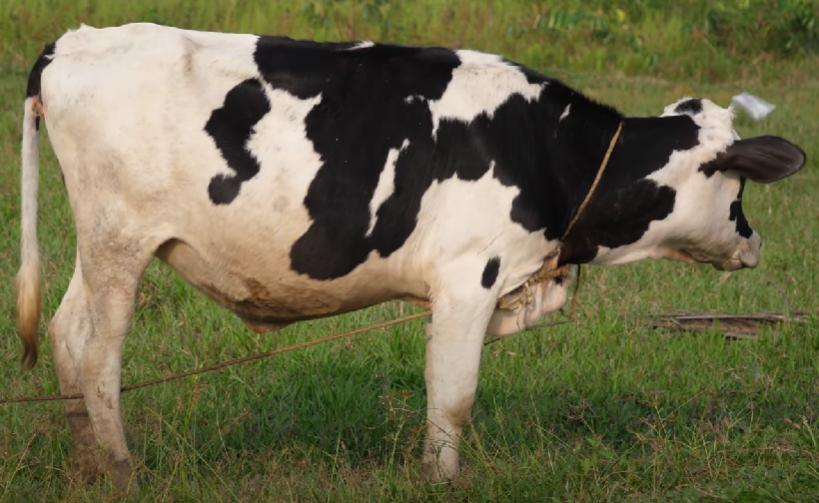cow: (14, 21, 807, 488)
